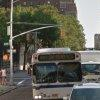Bus: (26, 48, 84, 100)
